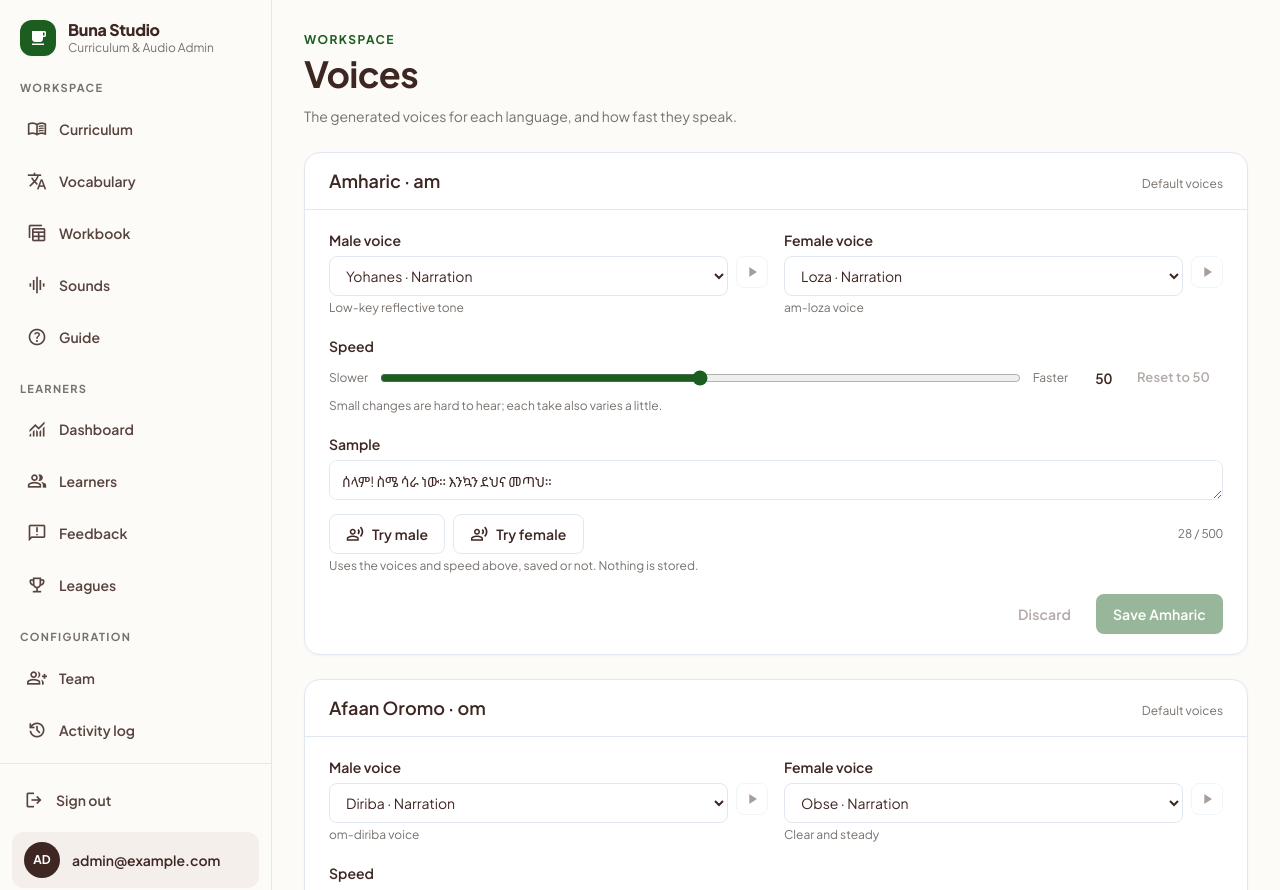
Test: the voices page › discards unsaved changes and resets the speed to 50
Select "Simon · Commercial" in the dropdown labelled "Male voice" below "Amharic · am" at [528, 276], box [329,256,728,296]
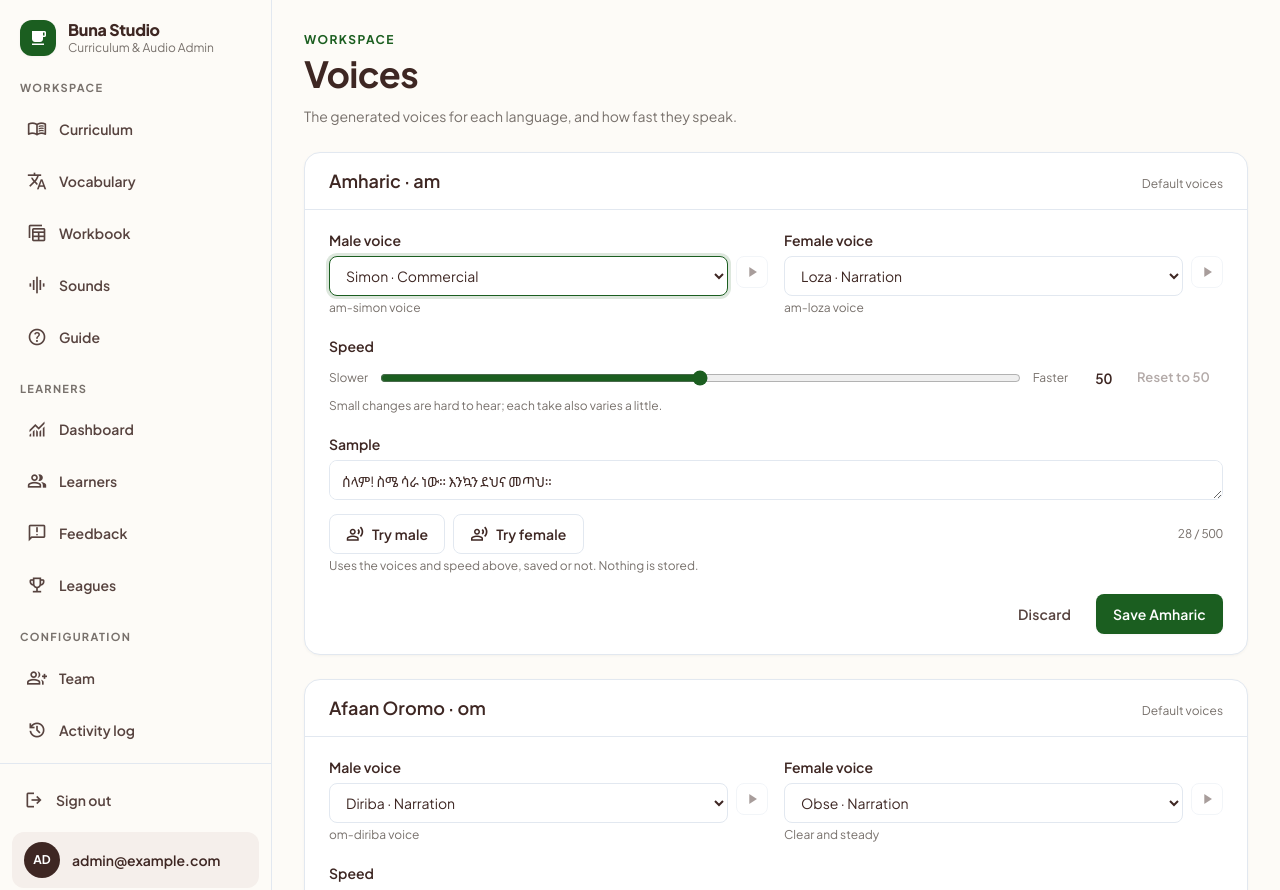
Set the slider labelled "Speed" below "am-simon voice" to "55" at [732, 378], box [380,370,1021,386]
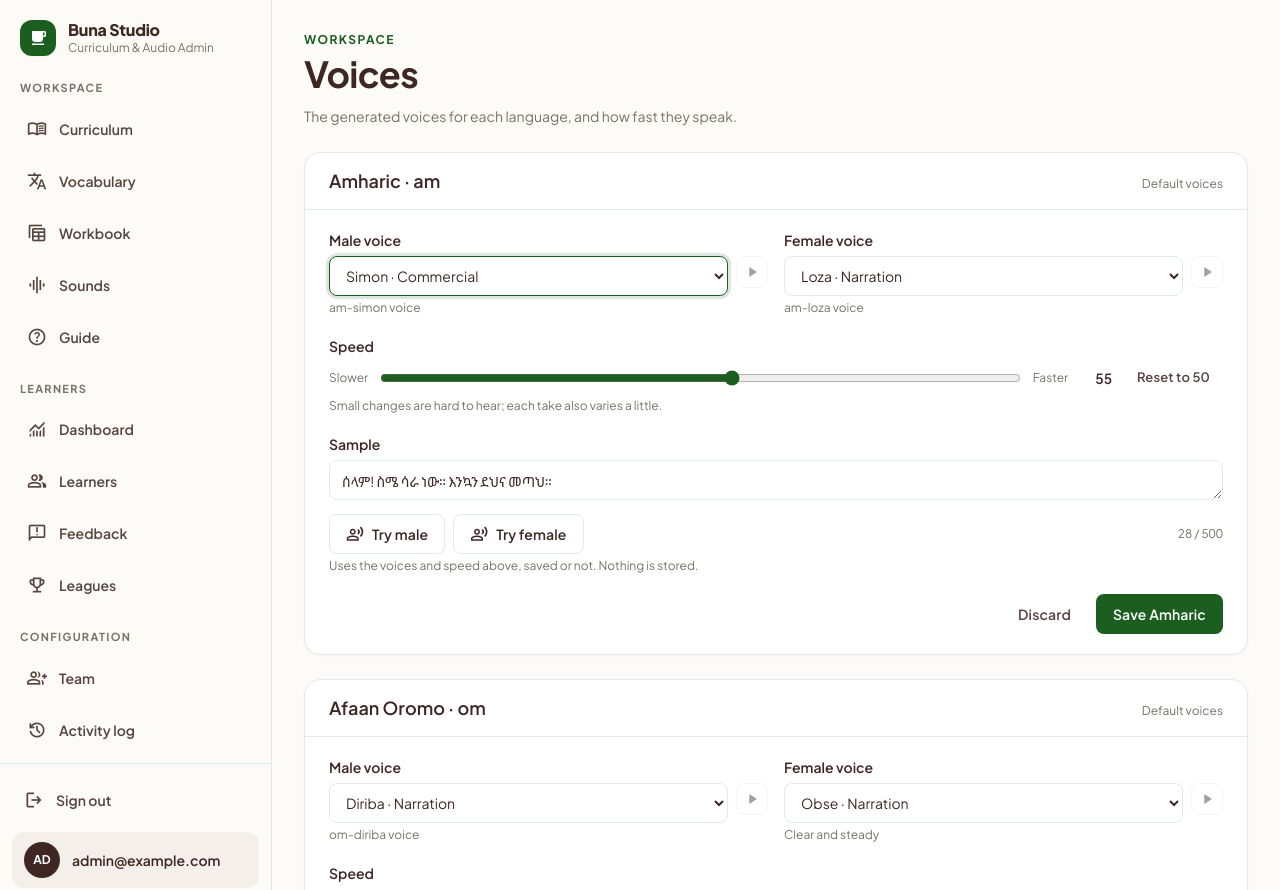
Click the button "Reset to 50" next to "55" at [1174, 378], box [1124,362,1223,394]
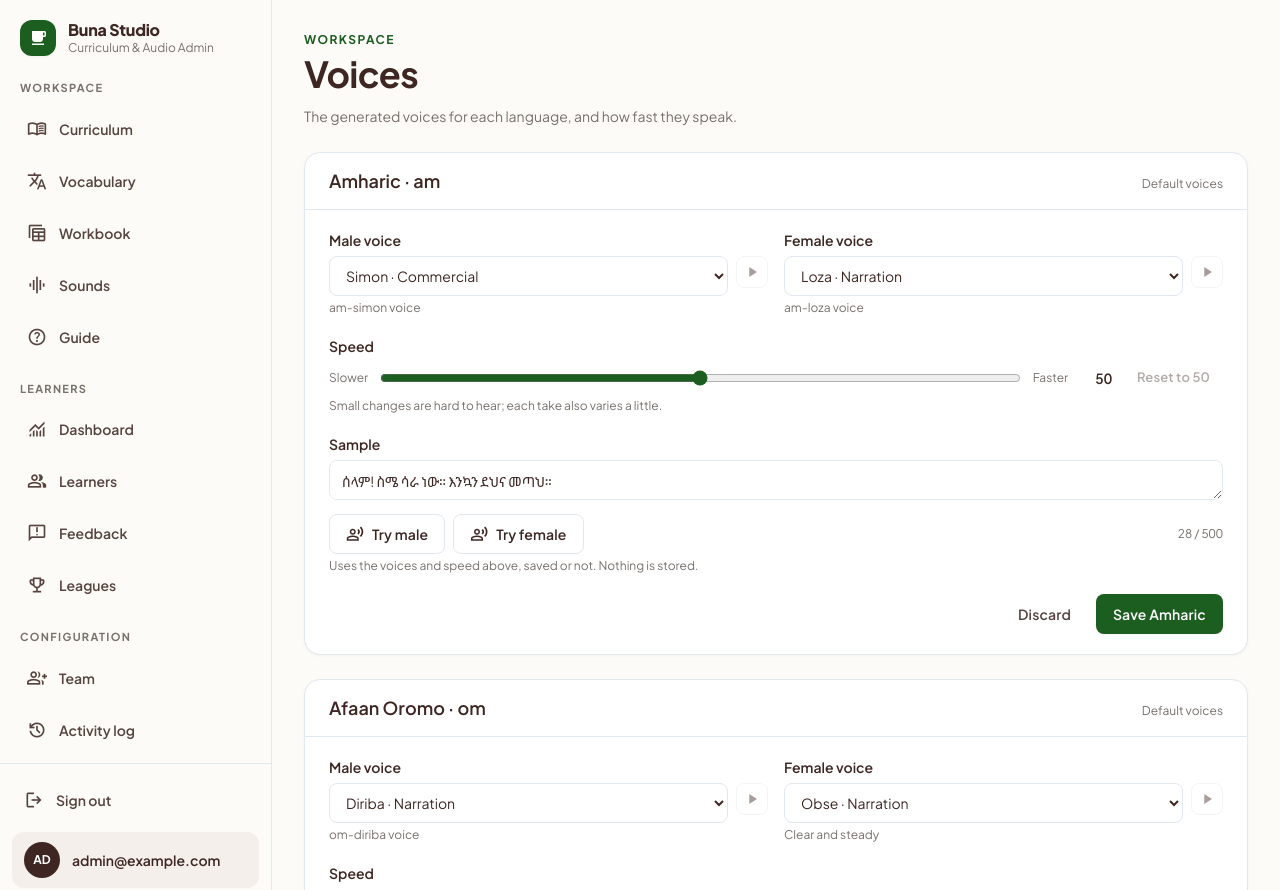
Expected: the slider labelled "Speed" below "am-simon voice" holds "50", [380,370,1021,386]
Click the button "Discard" at [1045, 614], box [1001,594,1088,634]
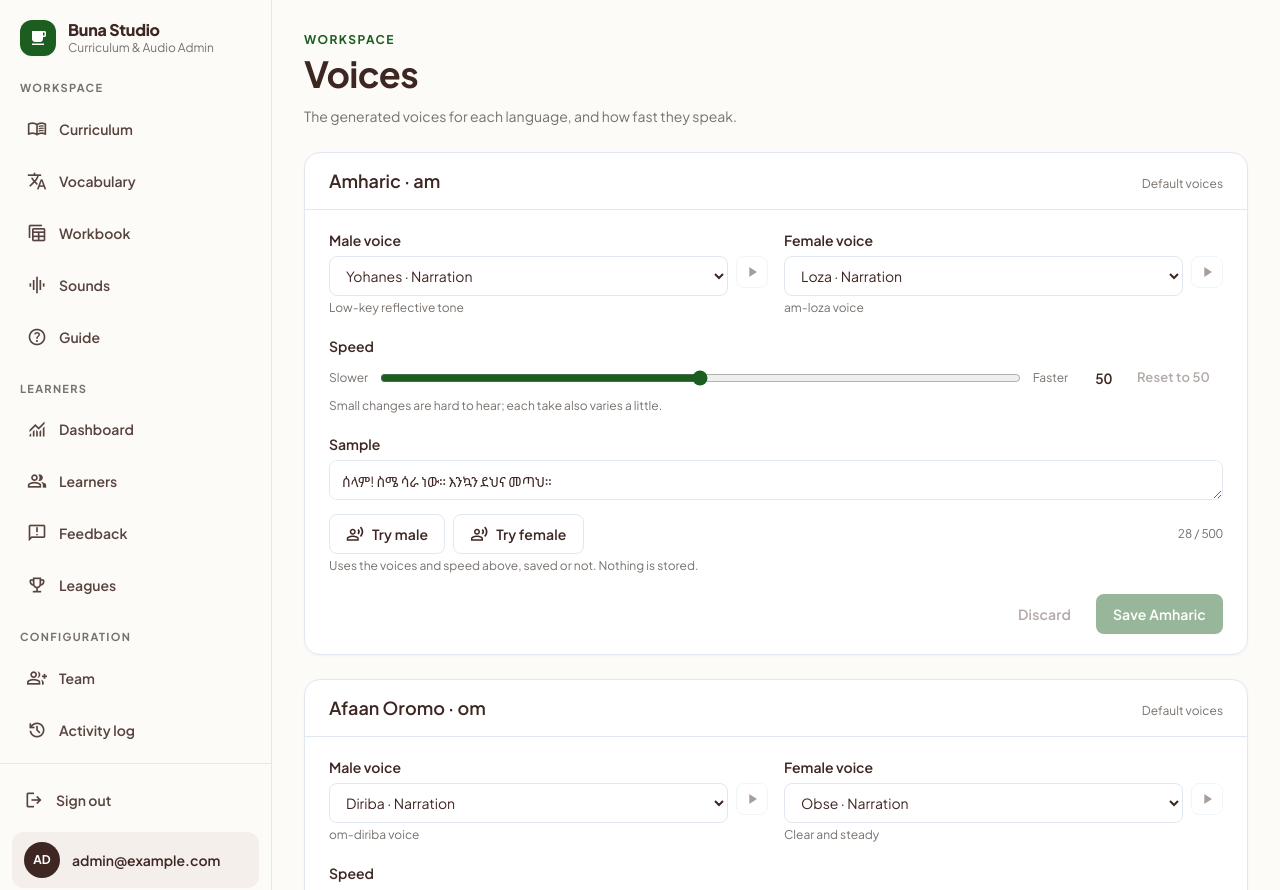
Expected: the button "Save Amharic" is disabled, [1096,594,1223,634]
